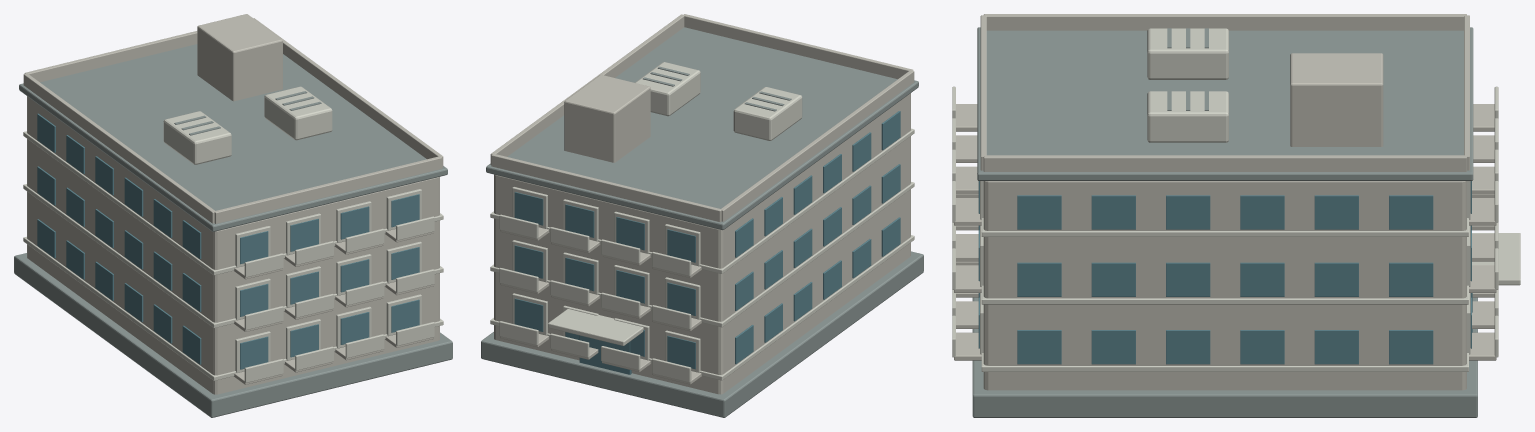
Rendered from building-residential-high.glb.
3 renders of one model, left to right at view 1: azimuth 30°, elevation 25°; view 2: azimuth 150°, elevation 25°; view 3: azimuth 270°, elevation 25°, orthographic. The views are drawn at different scales.
Visible parts, largest first — view 1: core-Warm concrete-surfaces, core-Roof membrane-surfaces, core-Aluminum facade-surfaces, core-Blue architectural glass-surfaces; view 2: core-Warm concrete-surfaces, core-Roof membrane-surfaces, core-Aluminum facade-surfaces, core-Blue architectural glass-surfaces; view 3: core-Warm concrete-surfaces, core-Roof membrane-surfaces, core-Blue architectural glass-surfaces, core-Aluminum facade-surfaces.
Part boxes in pixels (<box>): core-Warm concrete-surfaces: <box>23,14,443,394</box>; core-Roof membrane-surfaces: <box>14,44,452,417</box>; core-Aluminum facade-surfaces: <box>23,86,443,382</box>; core-Blue architectural glass-surfaces: <box>37,113,419,369</box>; core-Warm concrete-surfaces: <box>490,14,914,394</box>; core-Roof membrane-surfaces: <box>481,27,923,417</box>; core-Aluminum facade-surfaces: <box>490,62,914,382</box>; core-Blue architectural glass-surfaces: <box>514,111,900,374</box>; core-Warm concrete-surfaces: <box>954,14,1496,390</box>; core-Roof membrane-surfaces: <box>972,27,1477,417</box>; core-Blue architectural glass-surfaces: <box>978,181,1472,364</box>; core-Aluminum facade-surfaces: <box>952,28,1520,371</box>.
Bounding box in the file's own units: 9.6 × 9.1 × 15.3.
